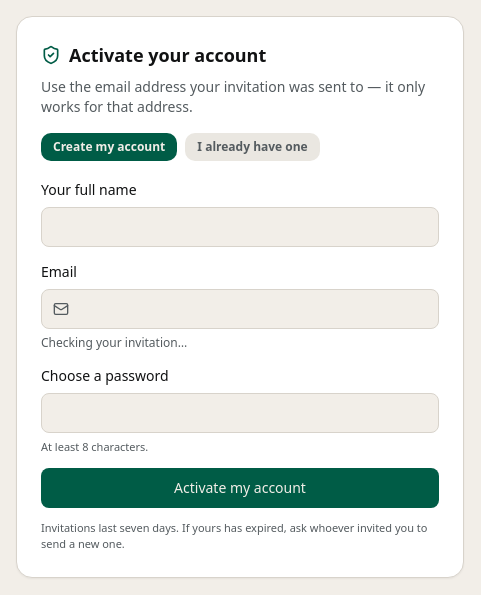
the activation page, signed out › creates the account through the invitation — no confirmation email — then signs in
Type "Rae Agent" into the field labelled "Your full name" at (240, 227), box left=41, top=207, right=439, bottom=247
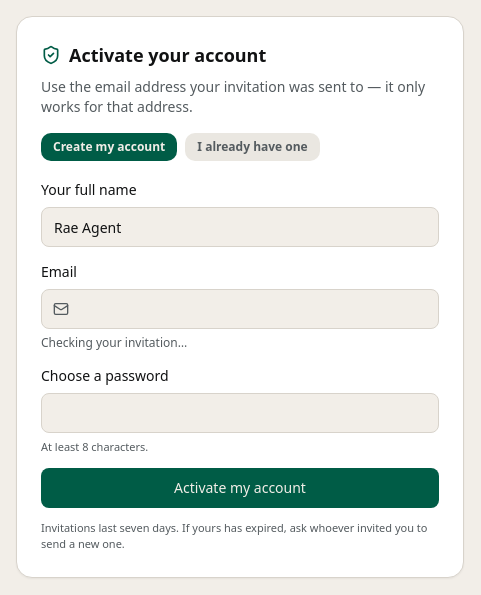
Type "rae@example.test" into the field labelled "Email" at (240, 309), box left=41, top=289, right=439, bottom=329
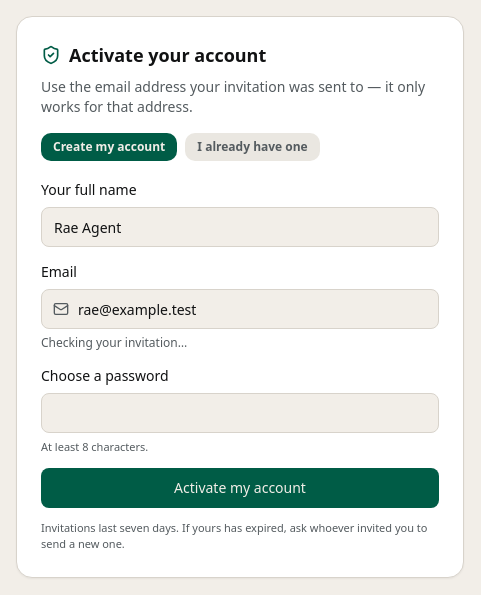
Type "a-long-password" into the password field labelled "Choose a password" at (240, 413), box left=41, top=393, right=439, bottom=433
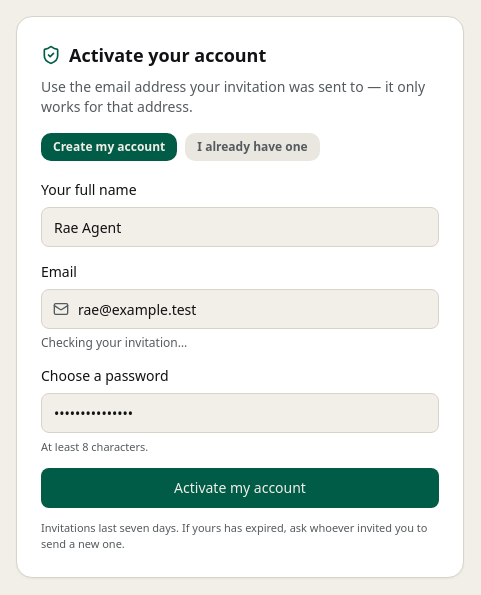
Click the button "Activate my account" at (240, 488), box left=41, top=468, right=439, bottom=508
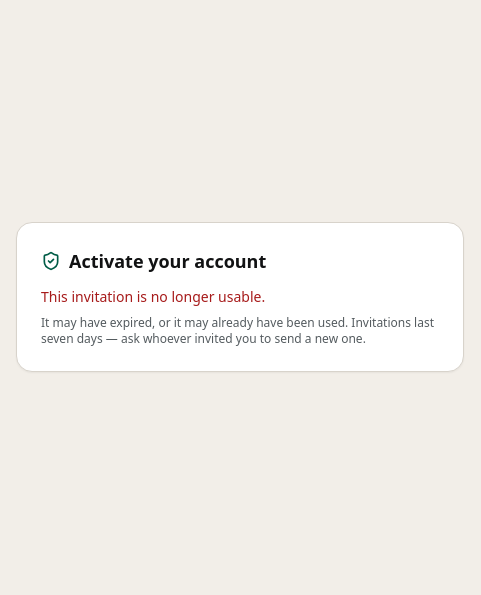
expect the text "Check your email" is gone: met
